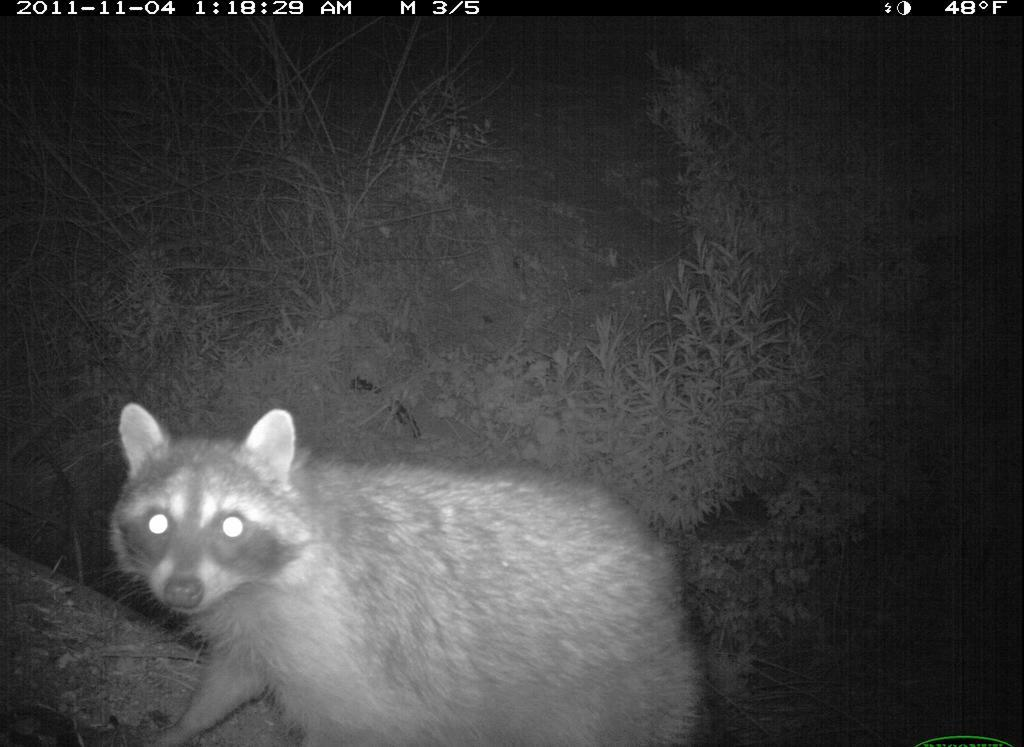raccoon: (102, 391, 717, 747)
